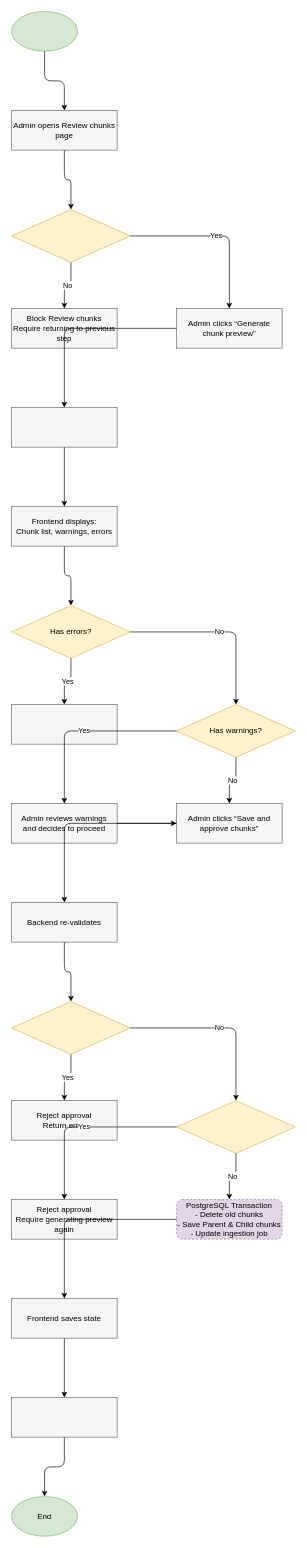
The diagram is 307 pixels wide and 1548 high, and some of its shapes have lost their labels. The shapes that lost their labels are listed below. From the top down, each one's centre as x and y in pixels, then its label:
At point 44,31: "Start".
At point 70,235: "Canonical Markdown approved?".
At point 64,427: "Backend generates chunk preview (Parse Markdown, create temporary chunks)".
At point 64,724: "Disable “Save & approve” button Admin returns to edit Markdown".
At point 70,1027: "New chunking errors?".
At point 235,1126: "Document modified since preview?".
At point 64,1417: "Proceed to Index & publish".
